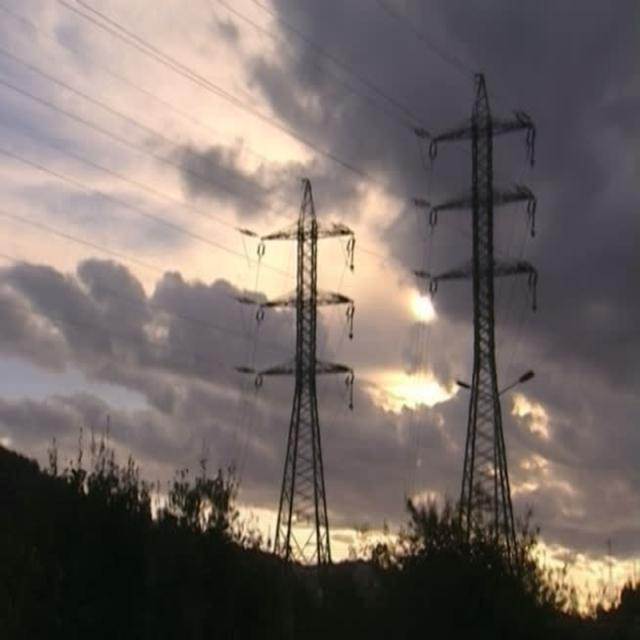non-critical vegetation: (405, 61, 561, 568), (252, 157, 366, 563)
